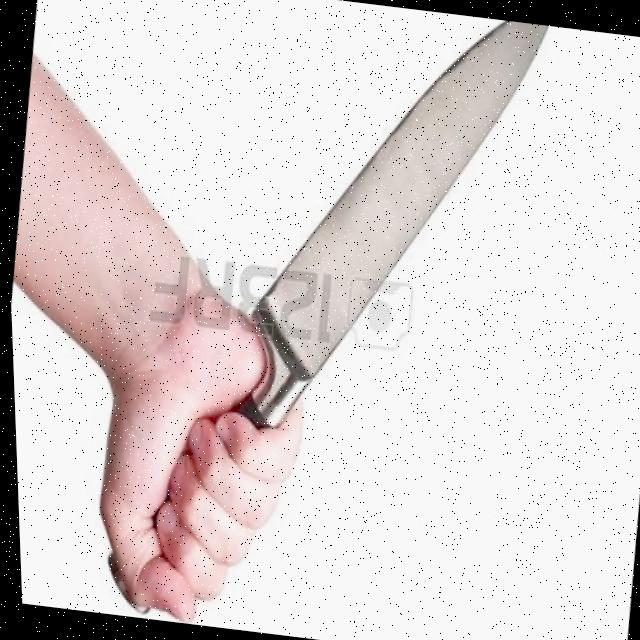knife: (187, 0, 579, 462)
